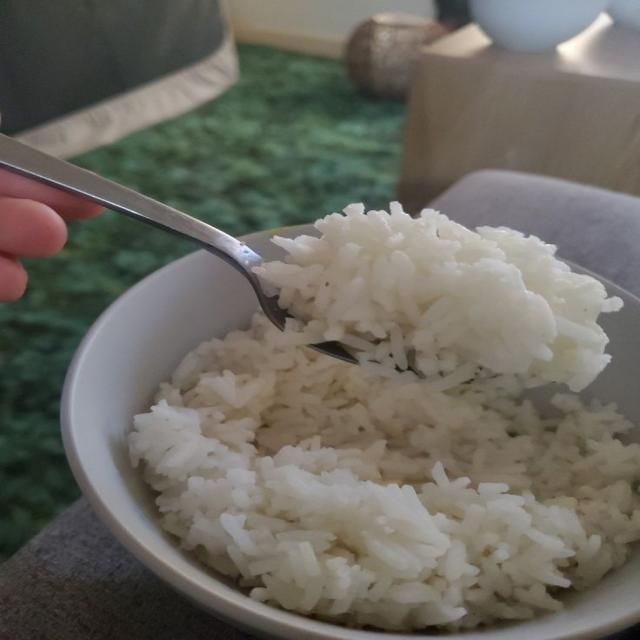rice: (130, 315, 639, 629), (254, 203, 620, 390)
